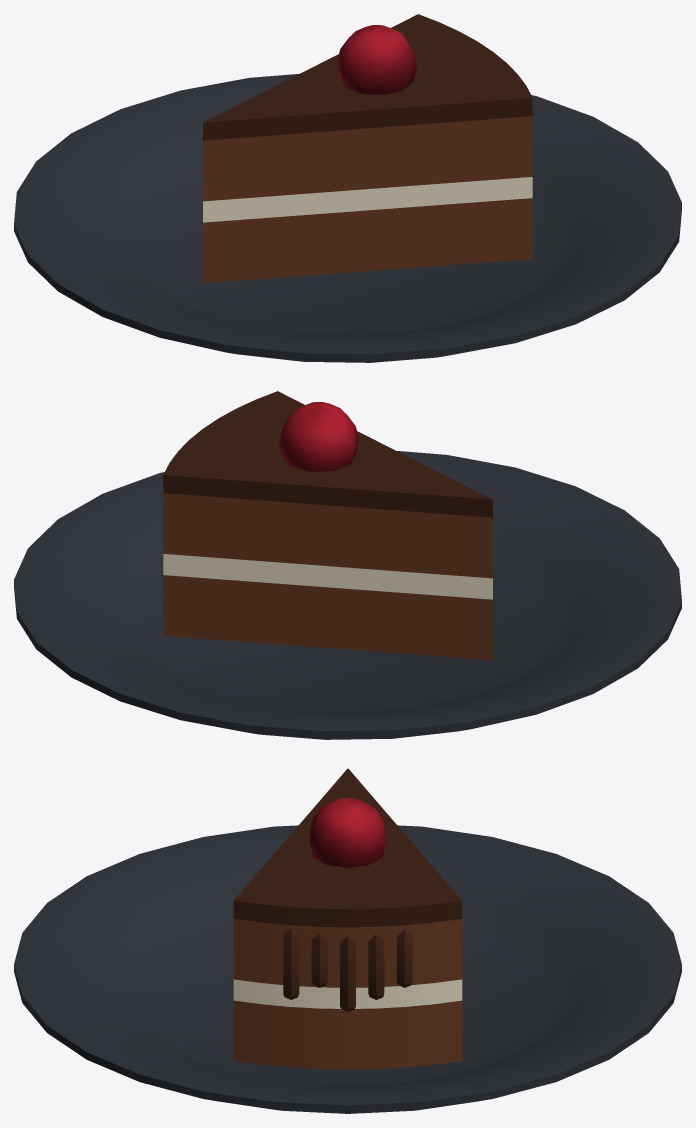
Rendered from bakery_cake_slice_chocolate.glb.
3 views of the same model, one above another, from view 1: azimuth 30°, elevation 25°; view 2: azimuth 150°, elevation 25°; view 3: azimuth 270°, elevation 25° (orthographic).
Visible parts, largest first — view 1: bakery_cake_slice_chocolate; view 2: bakery_cake_slice_chocolate; view 3: bakery_cake_slice_chocolate.
Boxes of the visible parts, x1,y1,x2,y2 form: bakery_cake_slice_chocolate: (14, 14, 681, 362); bakery_cake_slice_chocolate: (14, 391, 681, 739); bakery_cake_slice_chocolate: (14, 768, 681, 1113).
Bounding box in the file's own units: 0.2 × 0.078 × 0.2.
5 materials, 1 textured.
